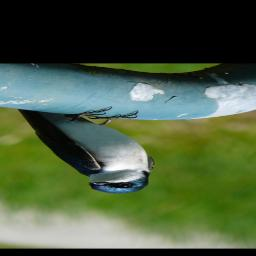Swallow: (18, 106, 159, 195)
